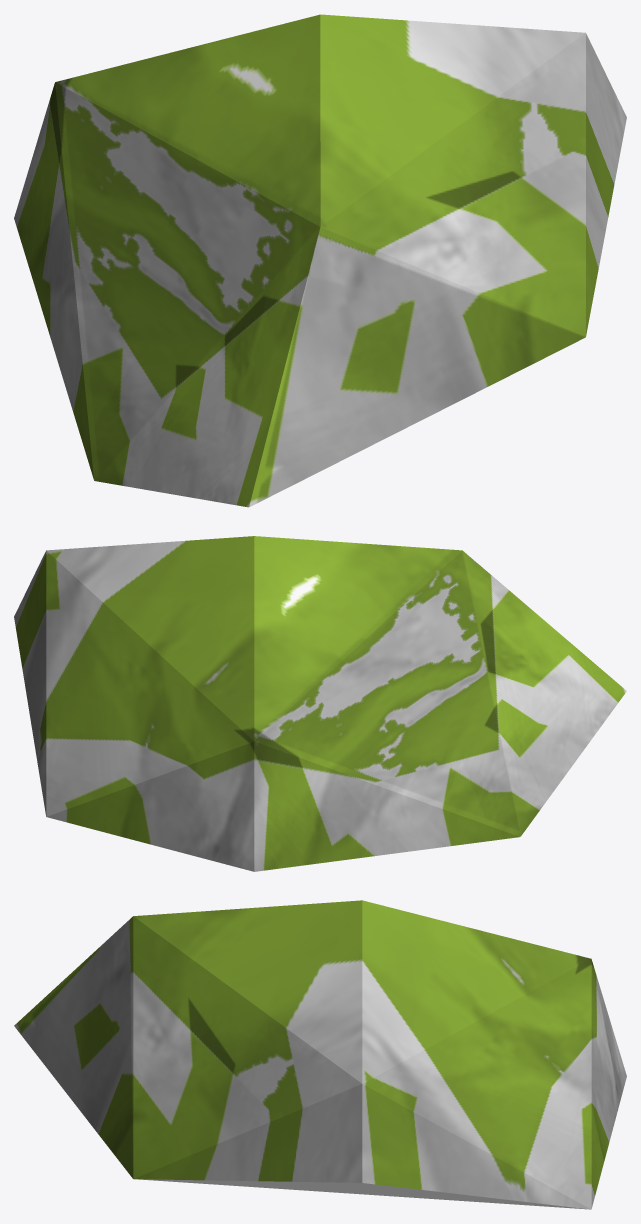
The model's file is MossyRock1.FBX.
The picture shows the model from 3 angles, top to bottom: view 1: azimuth 30°, elevation 25°; view 2: azimuth 150°, elevation 25°; view 3: azimuth 270°, elevation 25°; orthographic projection. The views are drawn at different scales.
Parts seen in each view (by area): view 1: GeoSphere001; view 2: GeoSphere001; view 3: GeoSphere001.
Part boxes in pixels (x1=…): GeoSphere001: x1=14, y1=14, x2=626, y2=507; GeoSphere001: x1=14, y1=536, x2=626, y2=871; GeoSphere001: x1=14, y1=900, x2=626, y2=1209.
Size of the model in its own units: 50.61 by 29.23 by 52.81.
1 material, 1 textured.
